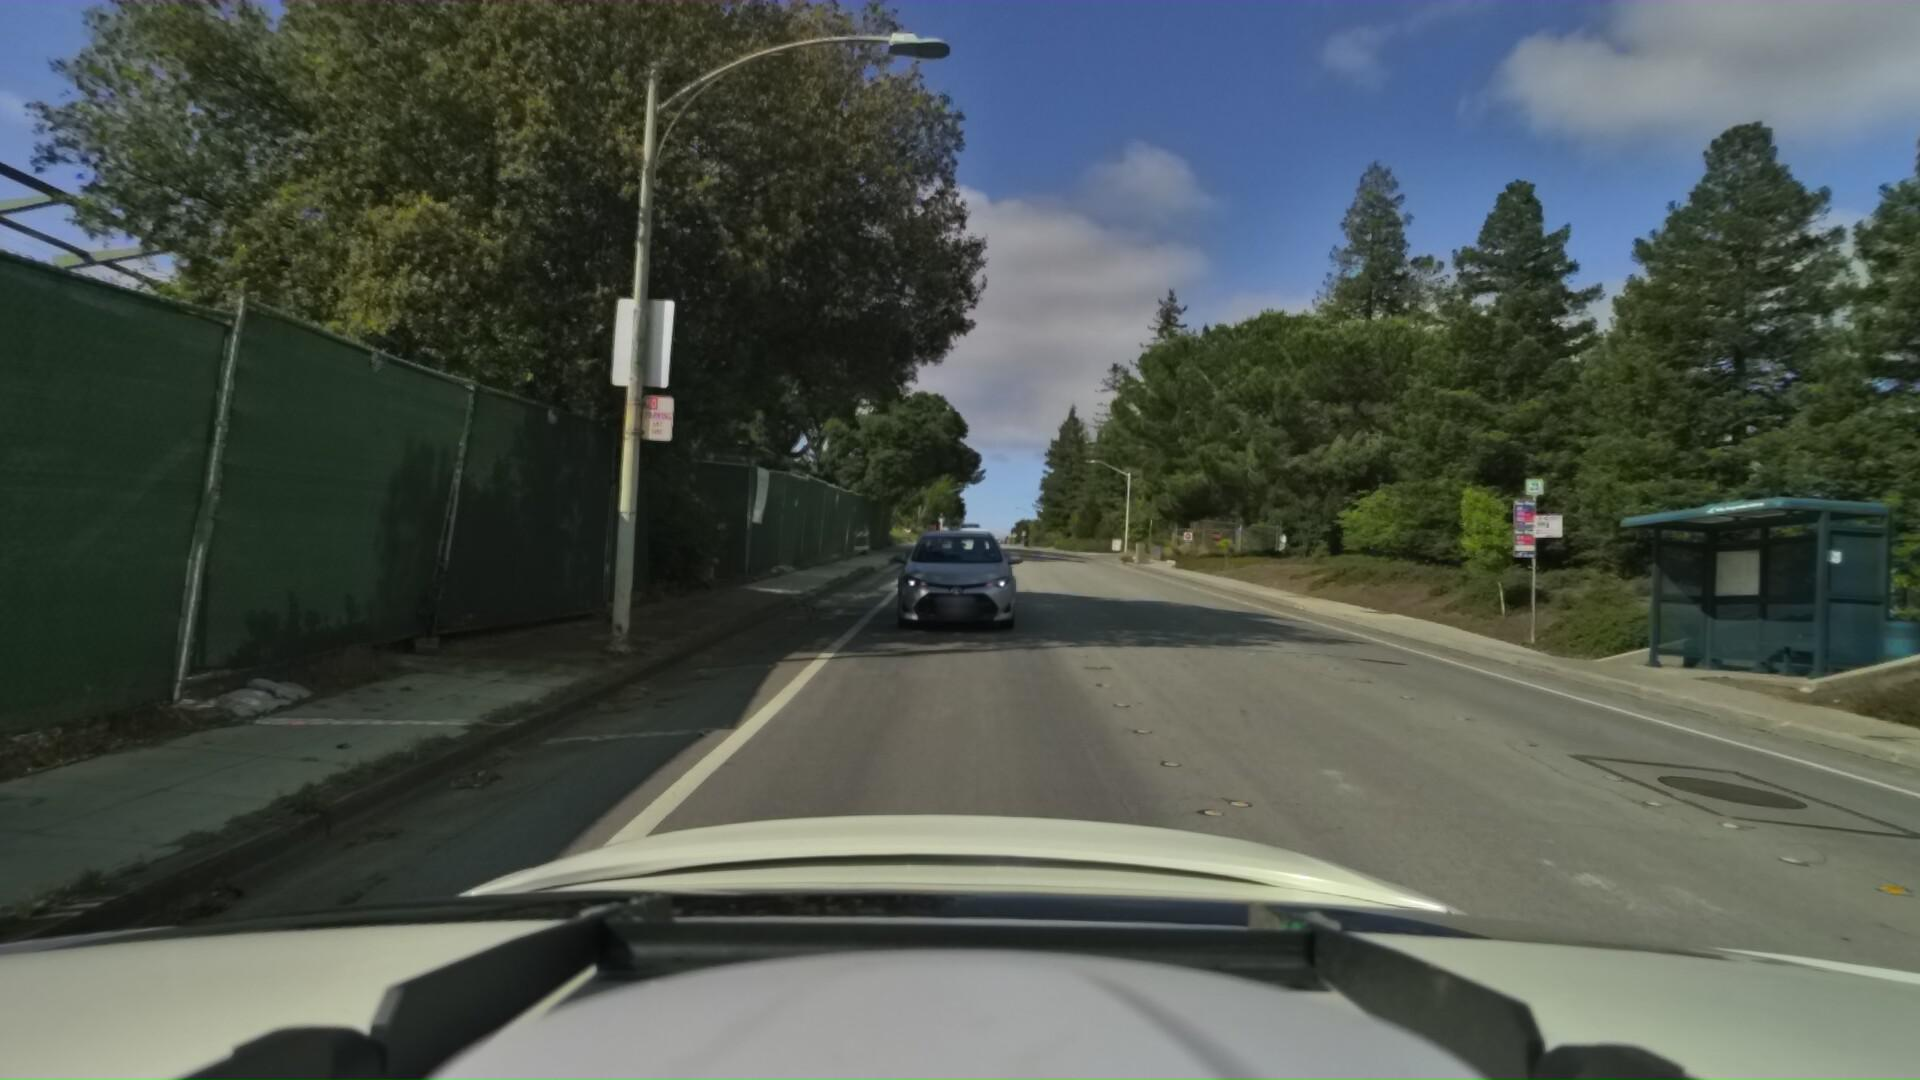car: (885, 508, 1022, 633), (953, 508, 1004, 556)
